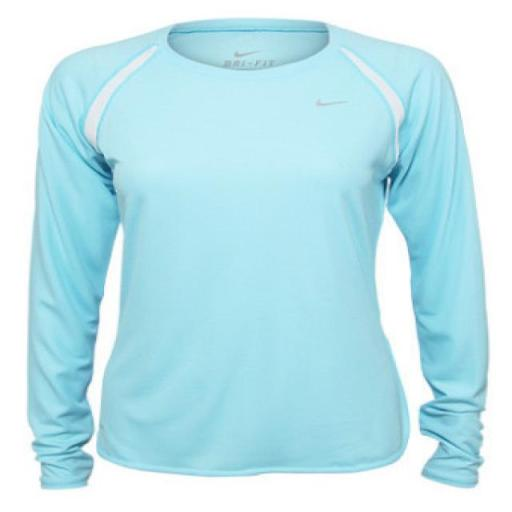Nike: (312, 95, 354, 112)
